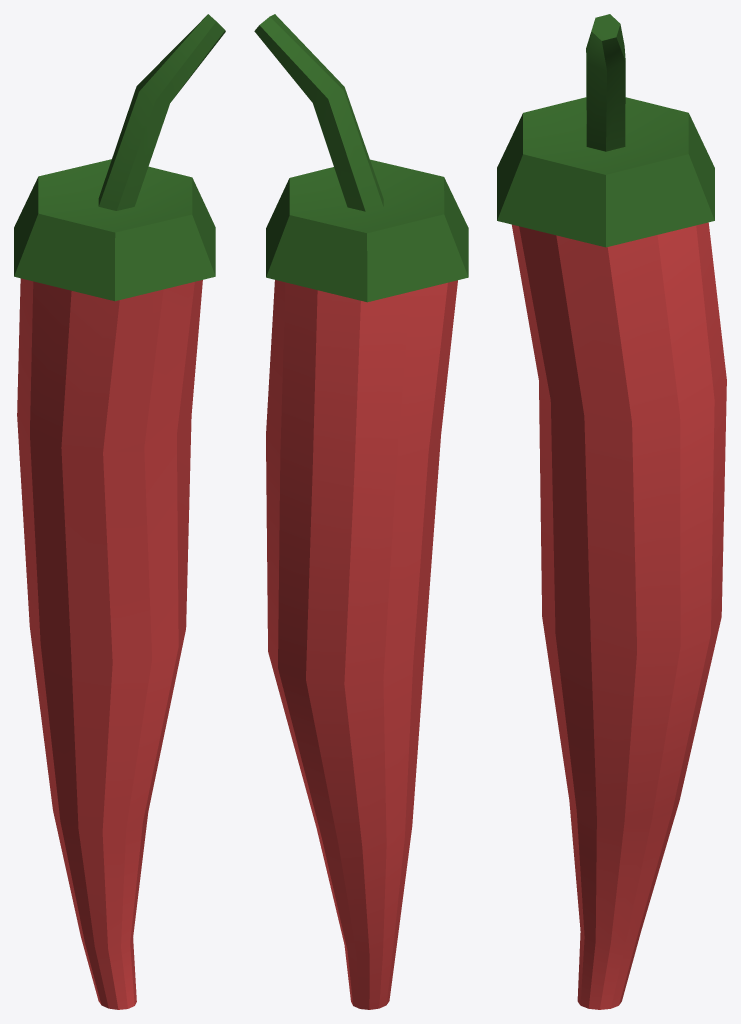
Rendered from SM_Pepper_01.fbx.
3 views of the same model, side by side, from view 1: azimuth 30°, elevation 25°; view 2: azimuth 150°, elevation 25°; view 3: azimuth 270°, elevation 25° (orthographic). The views are drawn at different scales.
Visible parts, largest first — view 1: SM_Pepper_01; view 2: SM_Pepper_01; view 3: SM_Pepper_01.
Boxes of the visible parts, left/top/right/bottom form: SM_Pepper_01: left=14, top=14, right=225, bottom=1009; SM_Pepper_01: left=254, top=14, right=468, bottom=1009; SM_Pepper_01: left=497, top=14, right=726, bottom=1009.
Bounding box in the file's own units: 3.53 × 15.54 × 3.1.
